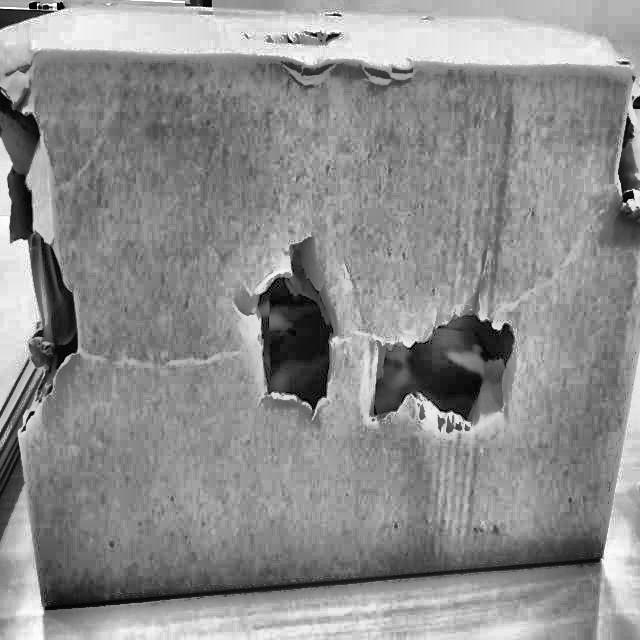box: (0, 2, 639, 618)
hole: (2, 67, 86, 387), (367, 306, 519, 426), (248, 242, 336, 424), (243, 21, 422, 96), (605, 54, 640, 219)
